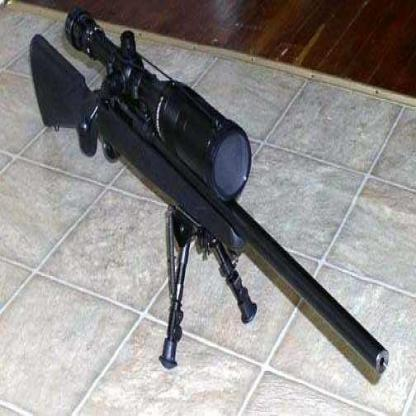rifle: (14, 25, 394, 390)
